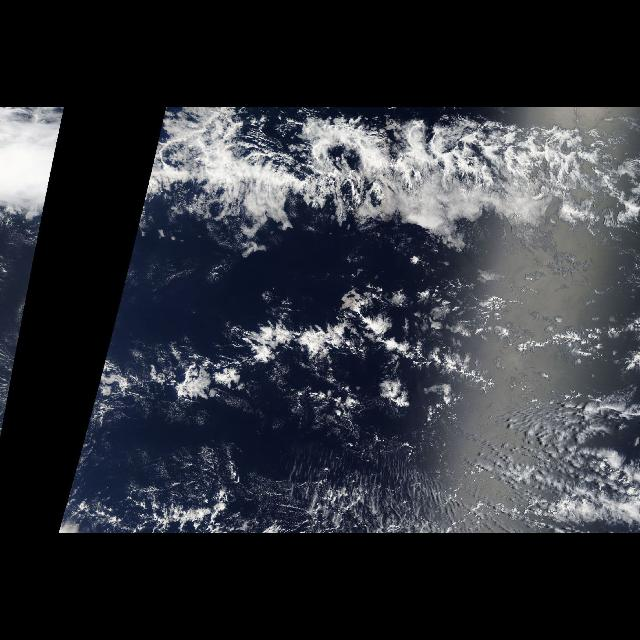Fish: (133, 110, 639, 270)
Sugar: (78, 447, 456, 533)
